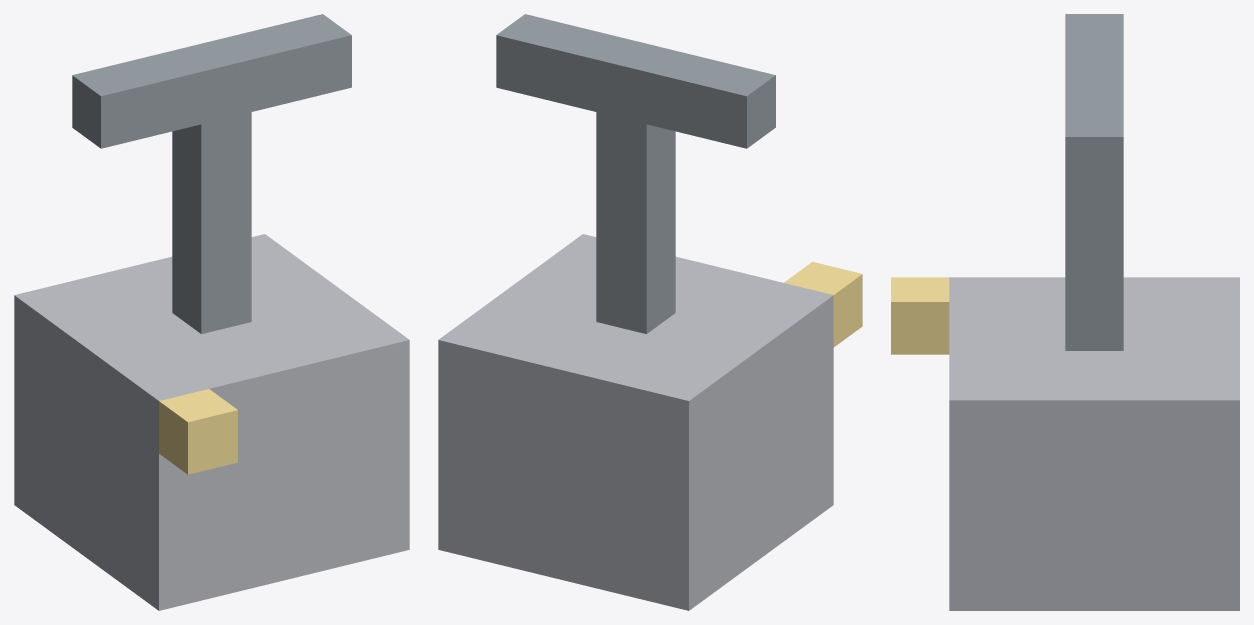
The model's file is vox_detonator_star.glb.
3 renders of one model, left to right at view 1: azimuth 30°, elevation 25°; view 2: azimuth 150°, elevation 25°; view 3: azimuth 270°, elevation 25°, orthographic.
Visible parts, largest first — view 1: vox_detonator_star; view 2: vox_detonator_star; view 3: vox_detonator_star.
Boxes of the visible parts, x1,y1,x2,y2 form: vox_detonator_star: (14,14,409,610); vox_detonator_star: (438,14,862,610); vox_detonator_star: (891,14,1239,610).
Bounding box in the file's own units: 0.1 × 0.18 × 0.12.
